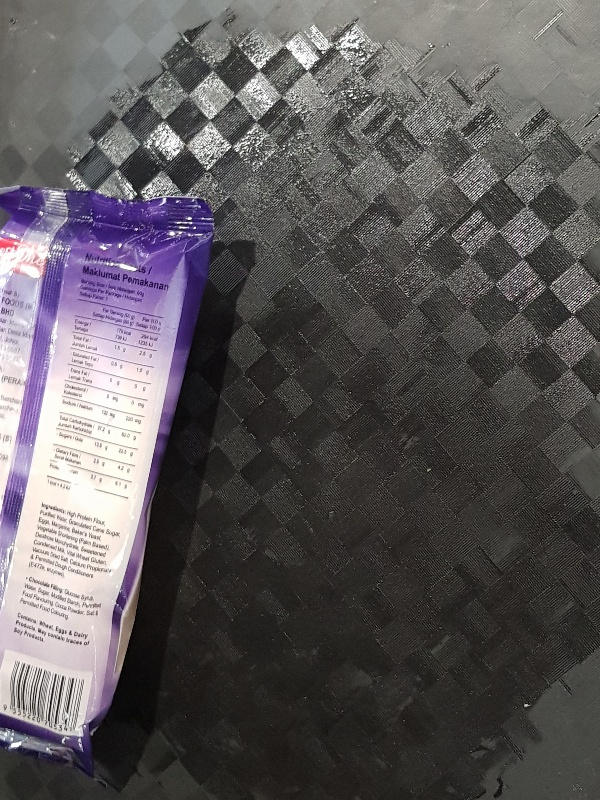Tinges Roll Chocolate: (1, 184, 215, 775)
